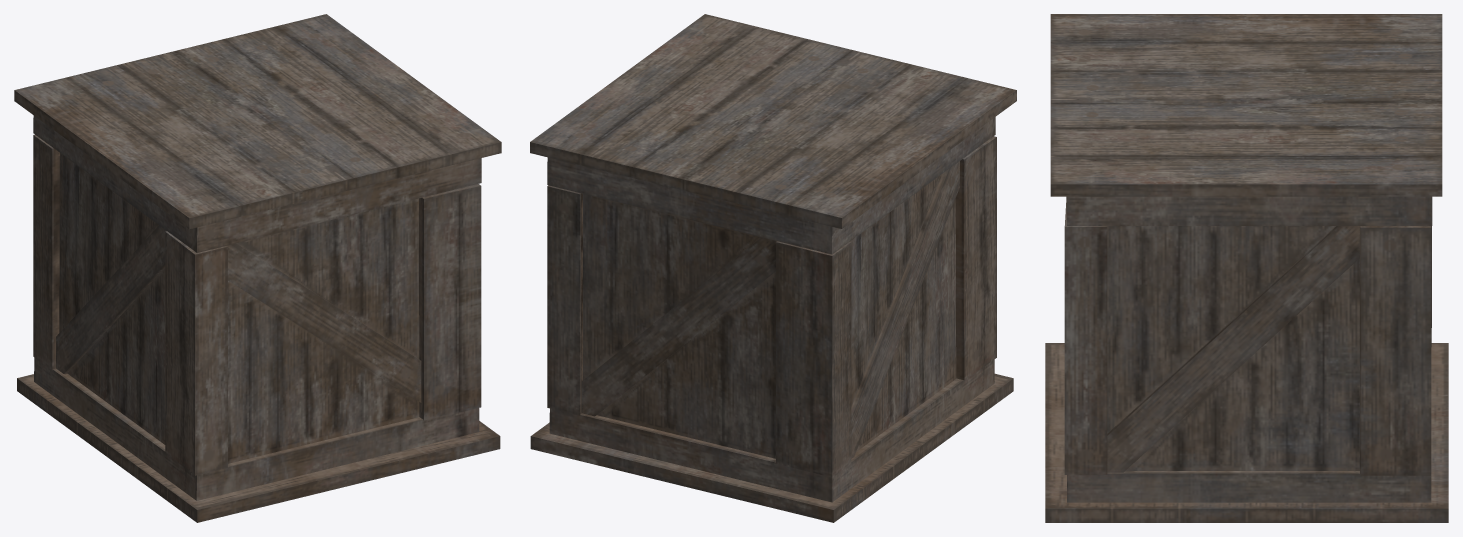
3 renders of one model, left to right at view 1: azimuth 30°, elevation 25°; view 2: azimuth 150°, elevation 25°; view 3: azimuth 270°, elevation 25°, orthographic. The views are drawn at different scales.
Visible parts, largest first — view 1: SM_Box_LOD0; view 2: SM_Box_LOD0; view 3: SM_Box_LOD0.
Part boxes in pixels (bbox=[...]): SM_Box_LOD0: bbox=[14, 14, 501, 522]; SM_Box_LOD0: bbox=[530, 14, 1016, 522]; SM_Box_LOD0: bbox=[1045, 14, 1448, 522].
Size of the model in its own units: 71.57 by 71.57 by 66.69.
